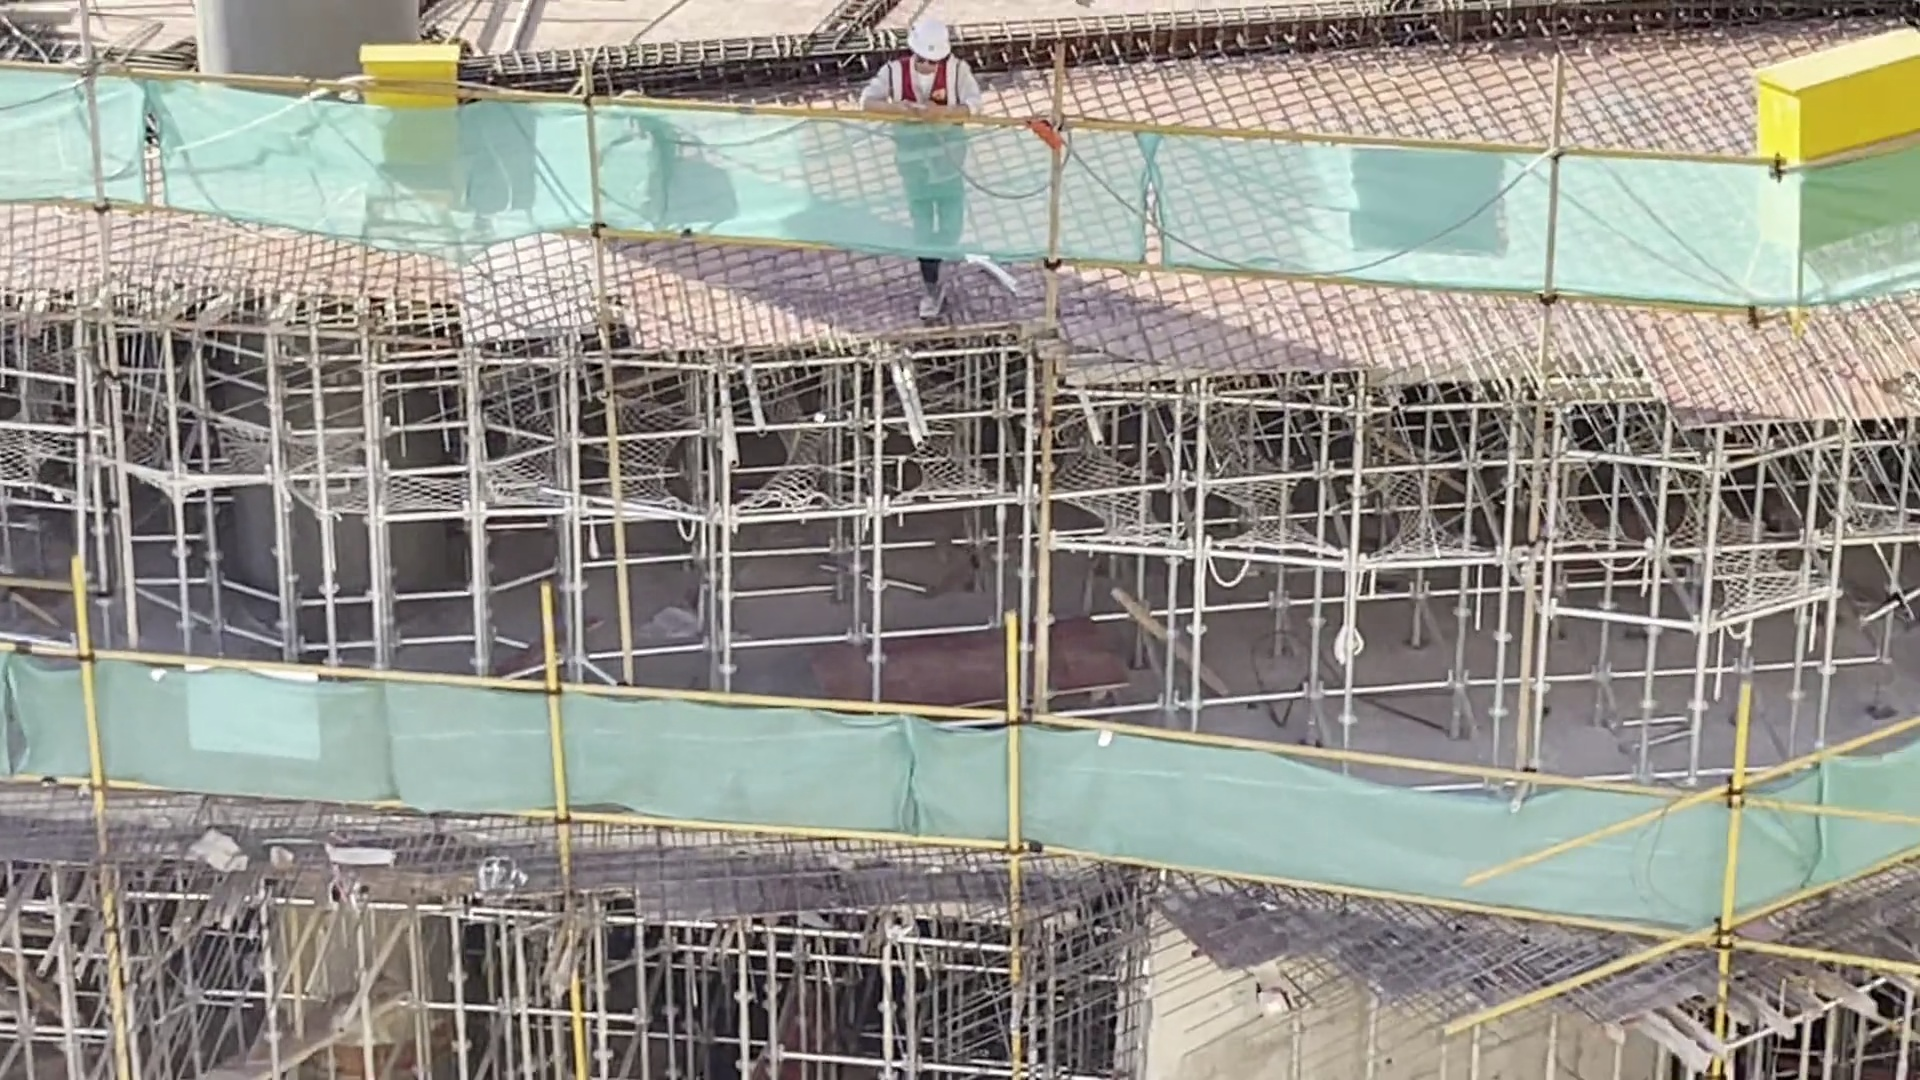ebox: (1723, 32, 1920, 223), (345, 41, 477, 186)
helmet: (907, 18, 960, 65)
person: (875, 2, 988, 316)
vest: (886, 61, 956, 183)
